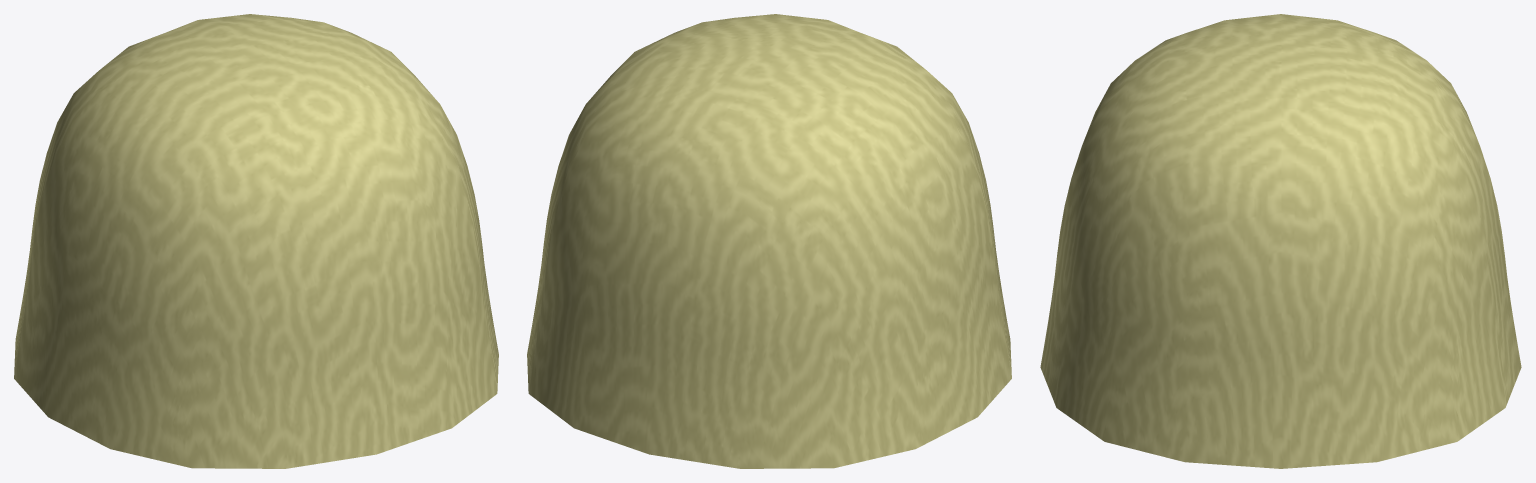
The model's file is coralBrain3.obj.
The picture shows the model from 3 angles, left to right: view 1: azimuth 30°, elevation 25°; view 2: azimuth 150°, elevation 25°; view 3: azimuth 270°, elevation 25°; orthographic projection.
Parts seen in each view (by area): view 1: Pseudodiploria_strigosa; view 2: Pseudodiploria_strigosa; view 3: Pseudodiploria_strigosa.
Boxes of the visible parts, x1,y1,x2,y2 form: Pseudodiploria_strigosa: (14,14,498,468); Pseudodiploria_strigosa: (527,14,1011,468); Pseudodiploria_strigosa: (1040,14,1521,468).
Size of the model in its own units: 237 by 174 by 237.
